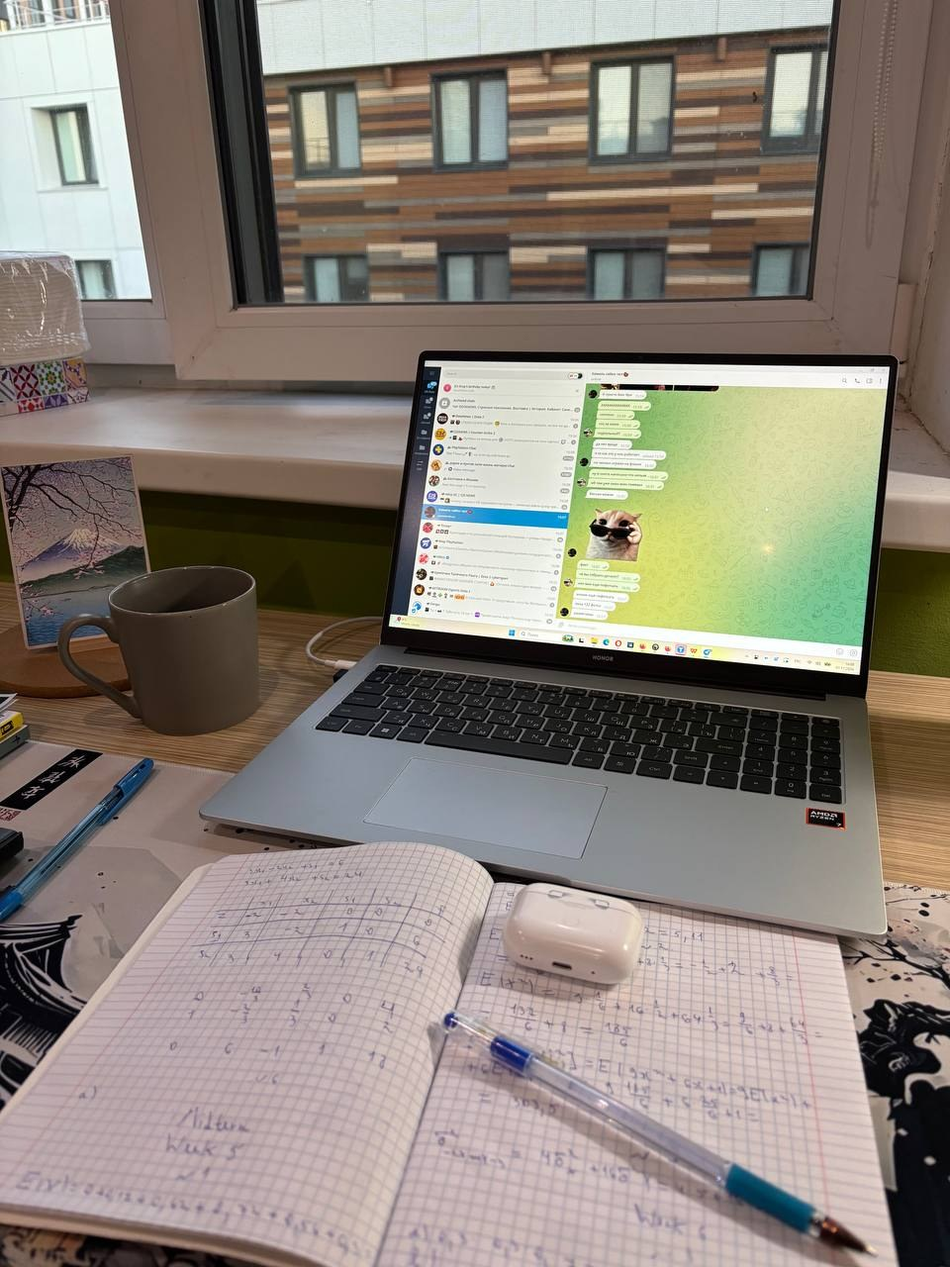laptop: (197, 349, 899, 938)
